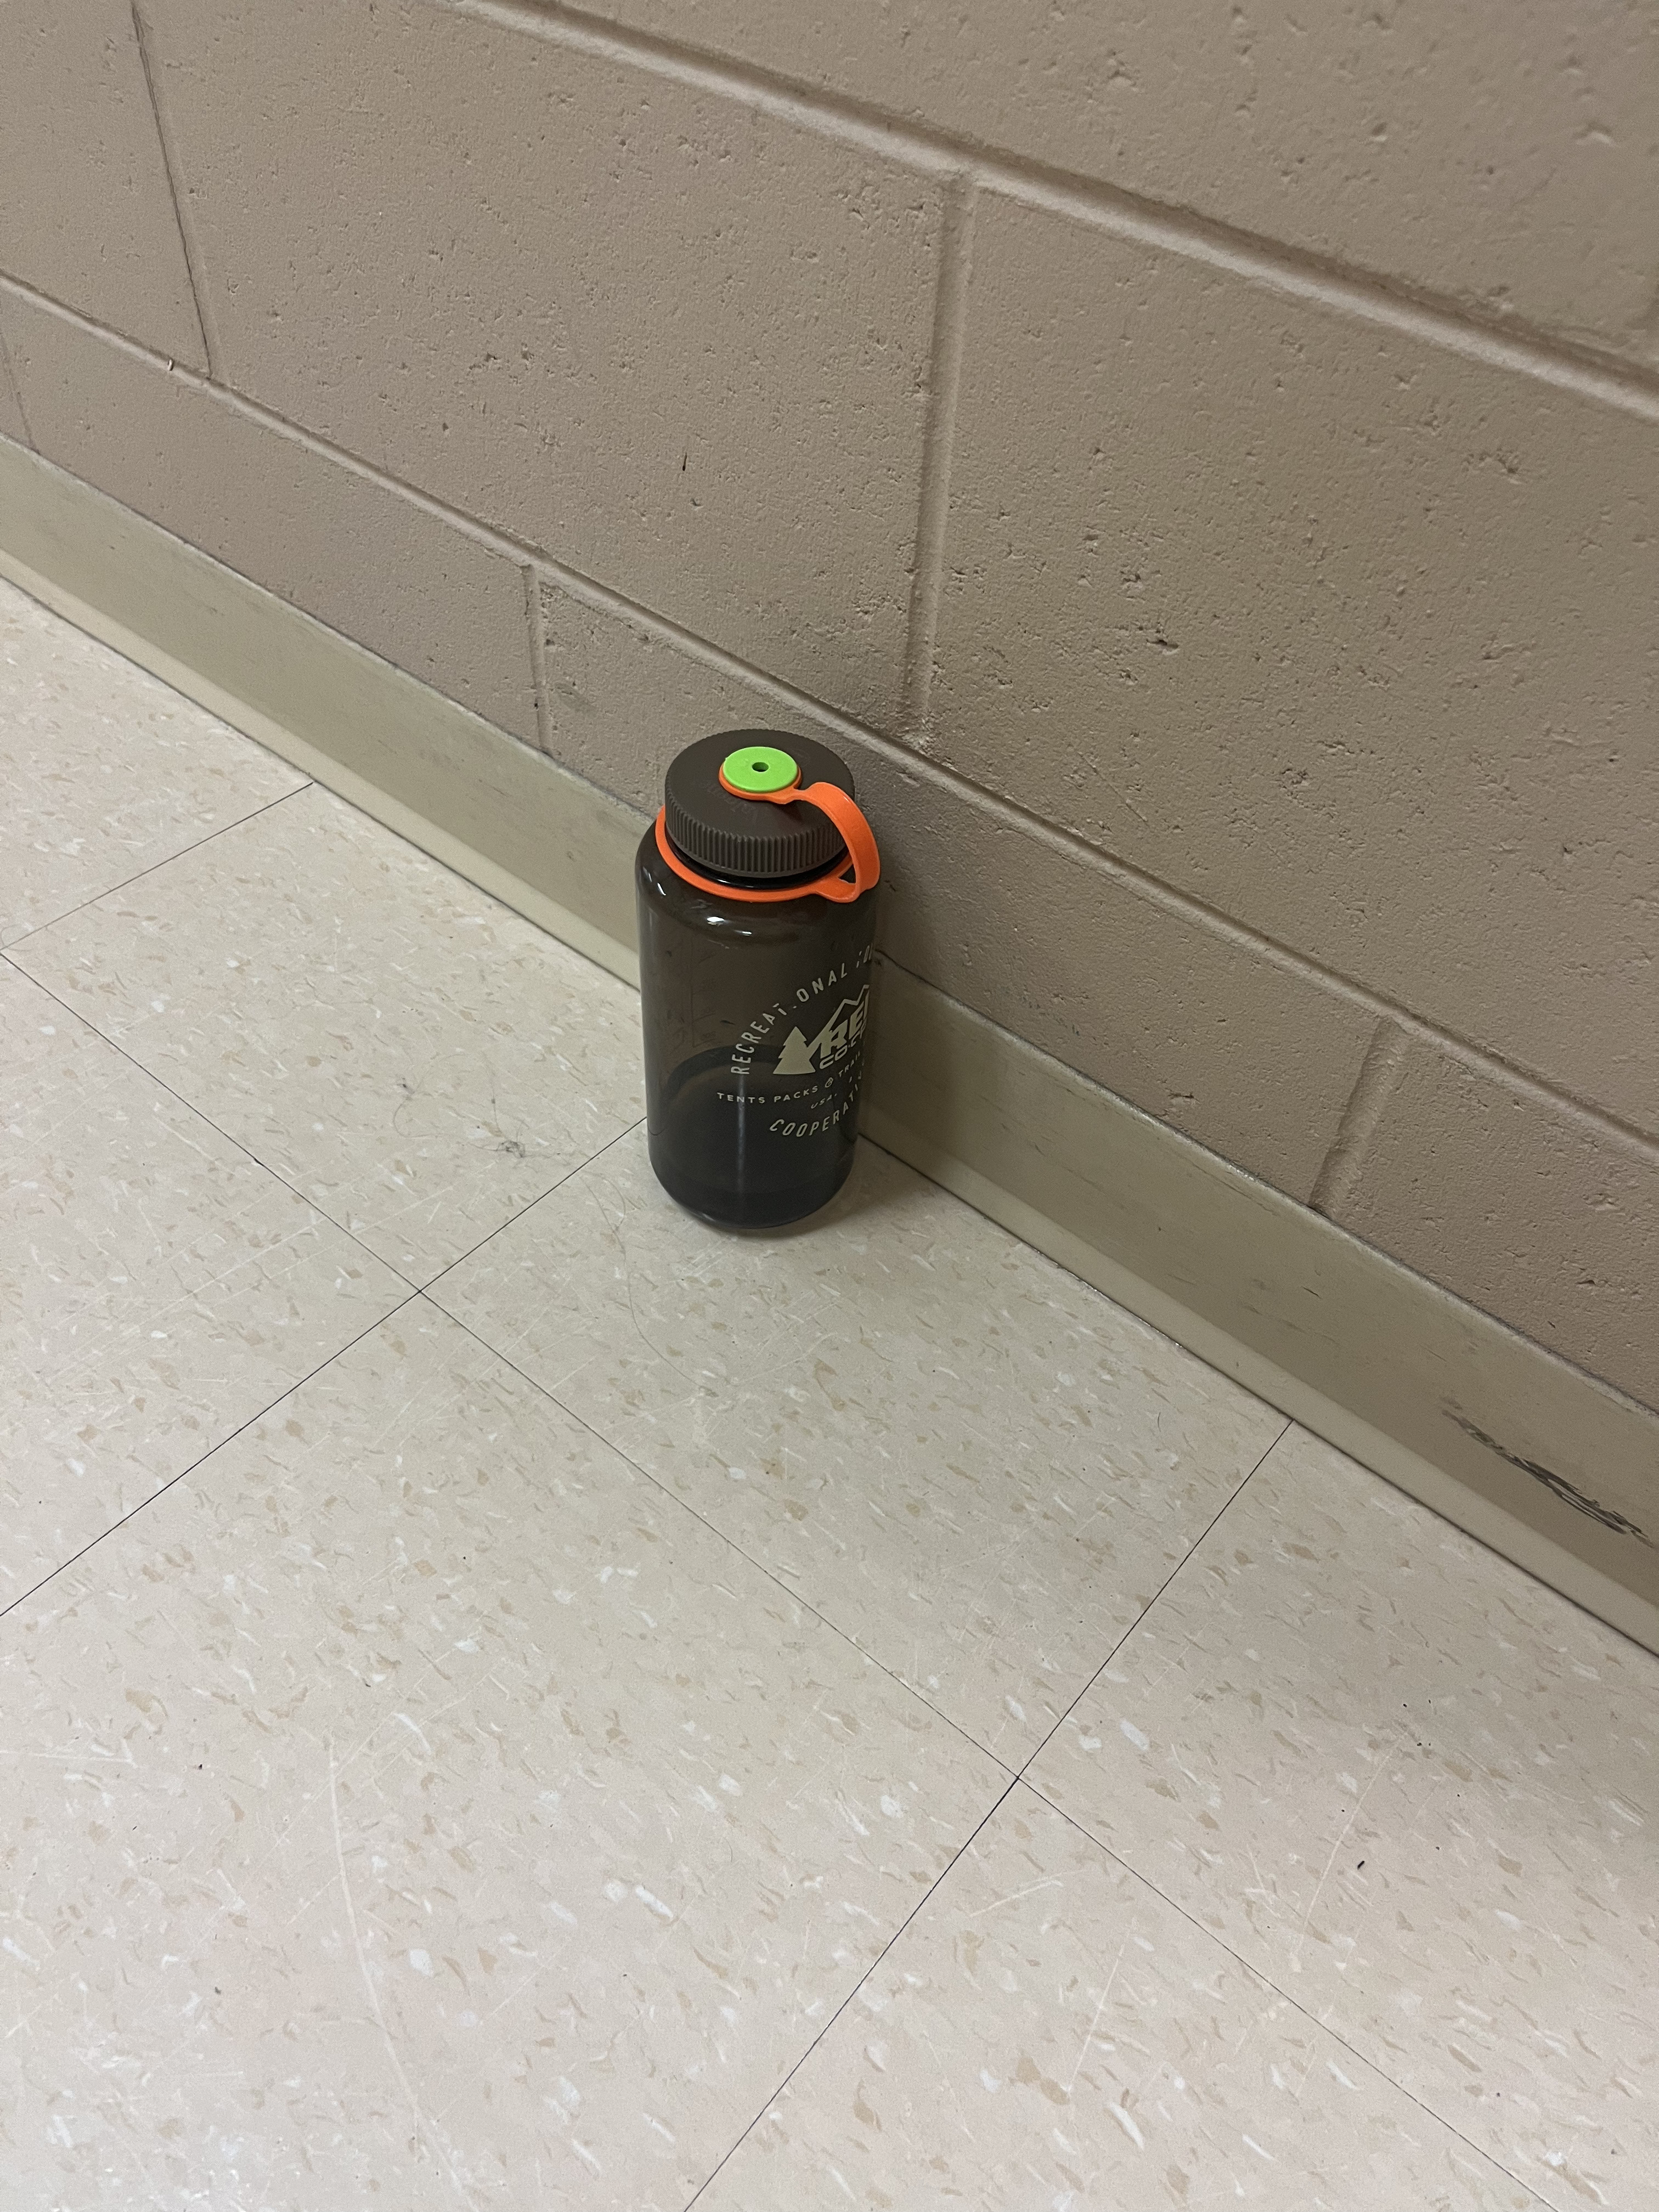bottle: (629, 716, 884, 1240)
